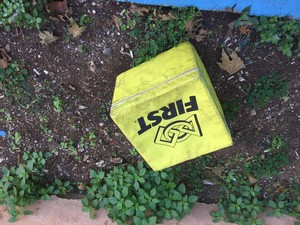cube: (112, 44, 234, 172)
